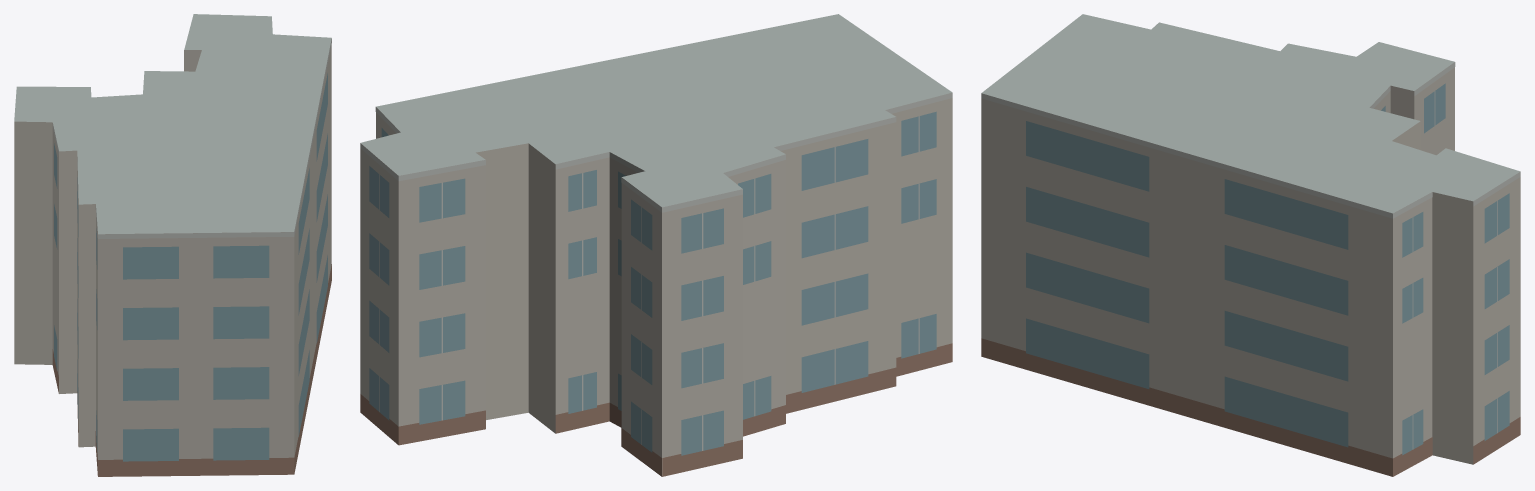
Rendered from survey-upis-32577599.glb.
The picture shows the model from 3 angles, left to right: view 1: azimuth 30°, elevation 25°; view 2: azimuth 150°, elevation 25°; view 3: azimuth 270°, elevation 25°; orthographic projection. The views are drawn at different scales.
Parts seen in each view (by area): view 1: survey-upis-32577599.tmp; view 2: survey-upis-32577599.tmp; view 3: survey-upis-32577599.tmp.
Boxes of the visible parts, bbox=[...] form: survey-upis-32577599.tmp: bbox=[14, 14, 331, 476]; survey-upis-32577599.tmp: bbox=[360, 14, 952, 476]; survey-upis-32577599.tmp: bbox=[981, 14, 1520, 476].
Size of the model in its own units: 19.82 by 12.2 by 22.65.
